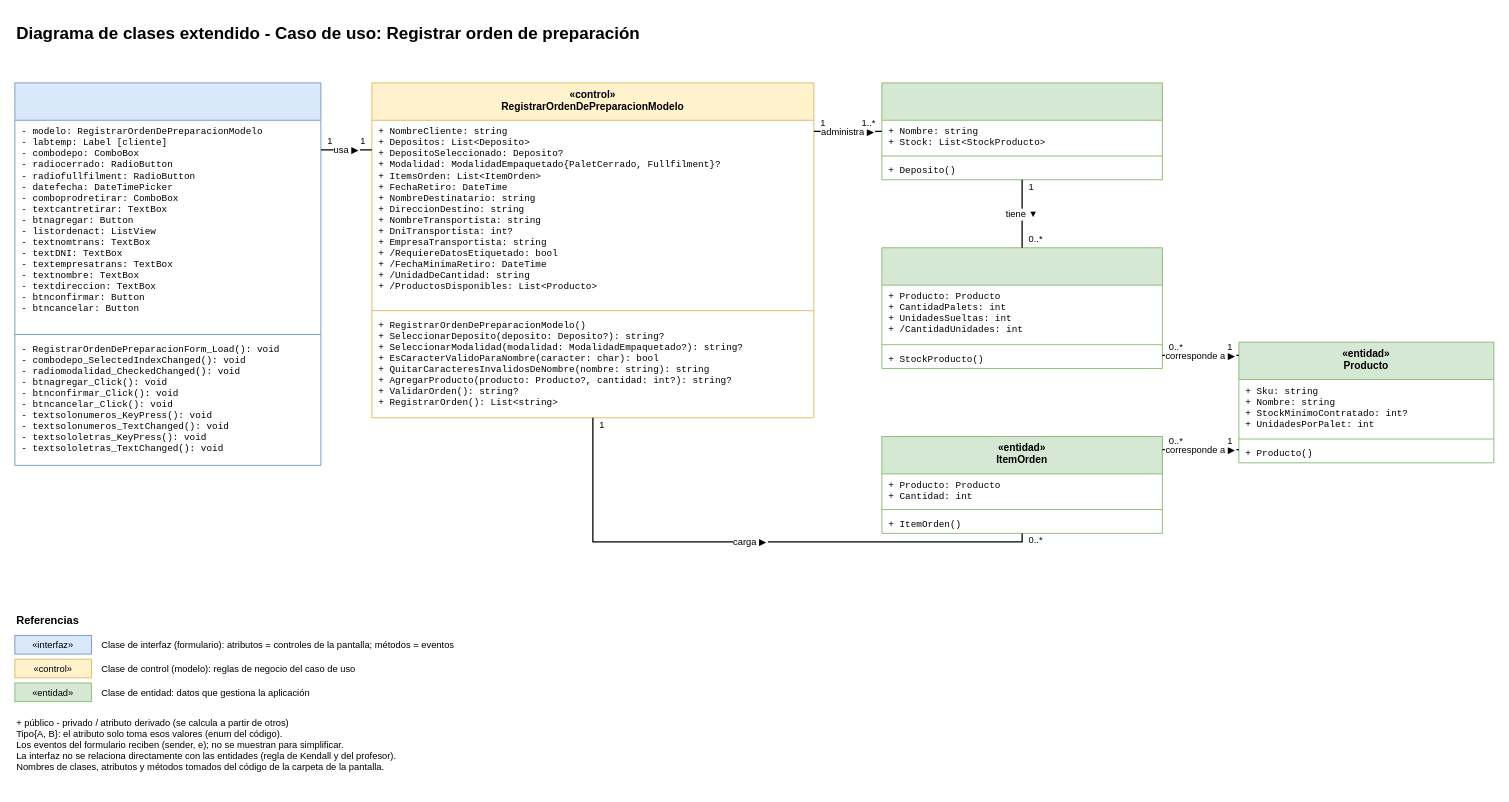
This 1509x802 diagram has some shape labels left out. The box of each missing label's shape, as (x1, y1, x2, y2) in pixels:
«entidad» Deposito: (881, 82, 1162, 180)
«entidad» StockProducto: (881, 247, 1162, 368)
«interfaz» RegistrarOrdenDePreparacionForm: (14, 82, 321, 465)
